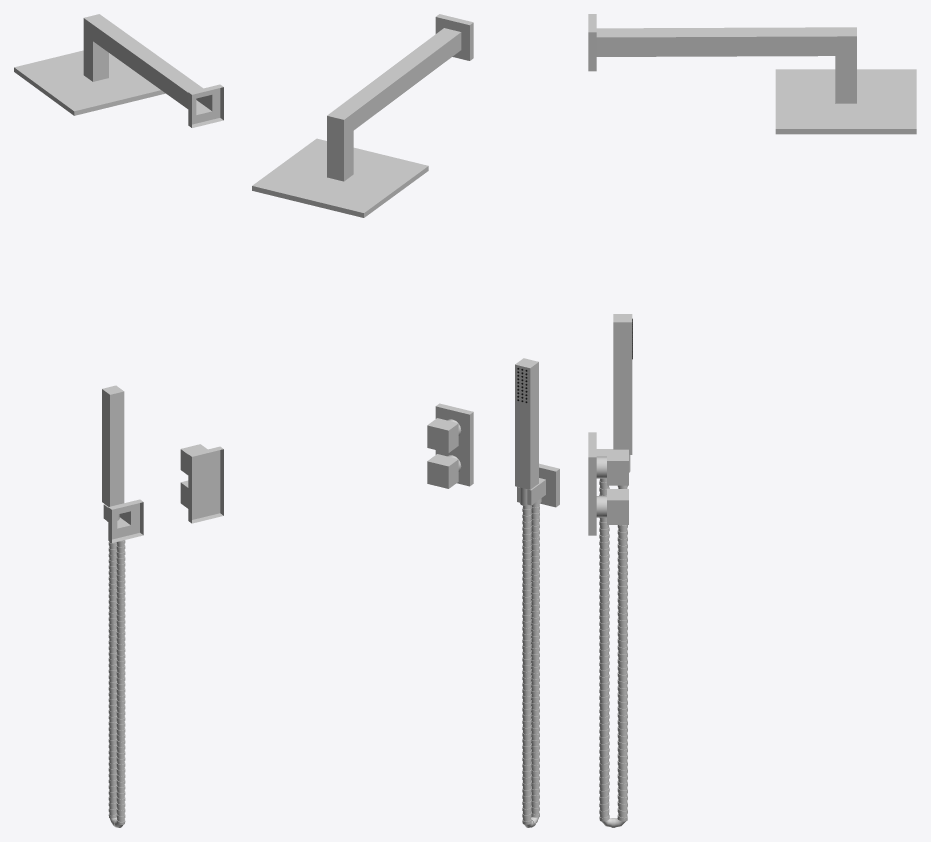
File: ShowerSystem05.fbx
3 renders of one model, left to right at view 1: azimuth 30°, elevation 25°; view 2: azimuth 150°, elevation 25°; view 3: azimuth 270°, elevation 25°, orthographic. The views are drawn at different scales.
Visible parts, largest first — view 1: ShowerSystem05; view 2: ShowerSystem05, ShowerSystem05Button01, ShowerSystem05Button02; view 3: ShowerSystem05, ShowerSystem05Button01, ShowerSystem05Button02.
Part boxes in pixels (x1=…): ShowerSystem05: x1=14, y1=14, x2=223, y2=827; ShowerSystem05: x1=252, y1=14, x2=559, y2=827; ShowerSystem05Button01: x1=427, y1=418, x2=458, y2=452; ShowerSystem05Button02: x1=427, y1=454, x2=458, y2=488; ShowerSystem05: x1=588, y1=14, x2=916, y2=827; ShowerSystem05Button01: x1=607, y1=449, x2=628, y2=485; ShowerSystem05Button02: x1=607, y1=489, x2=628, y2=524.
Bounding box in the file's own units: 31.75 × 150 × 52.62.
